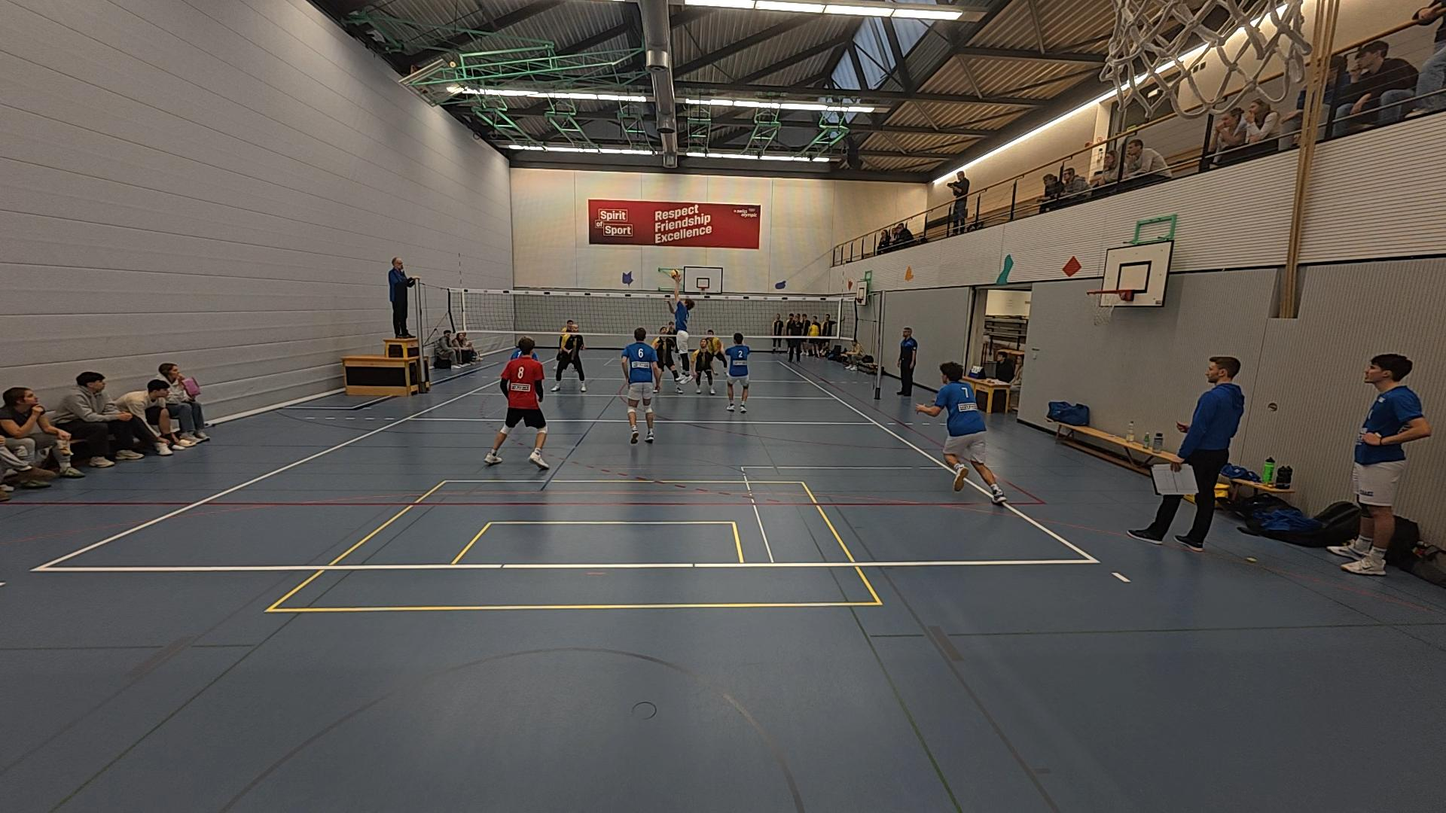alzata: (662, 270, 699, 382)
